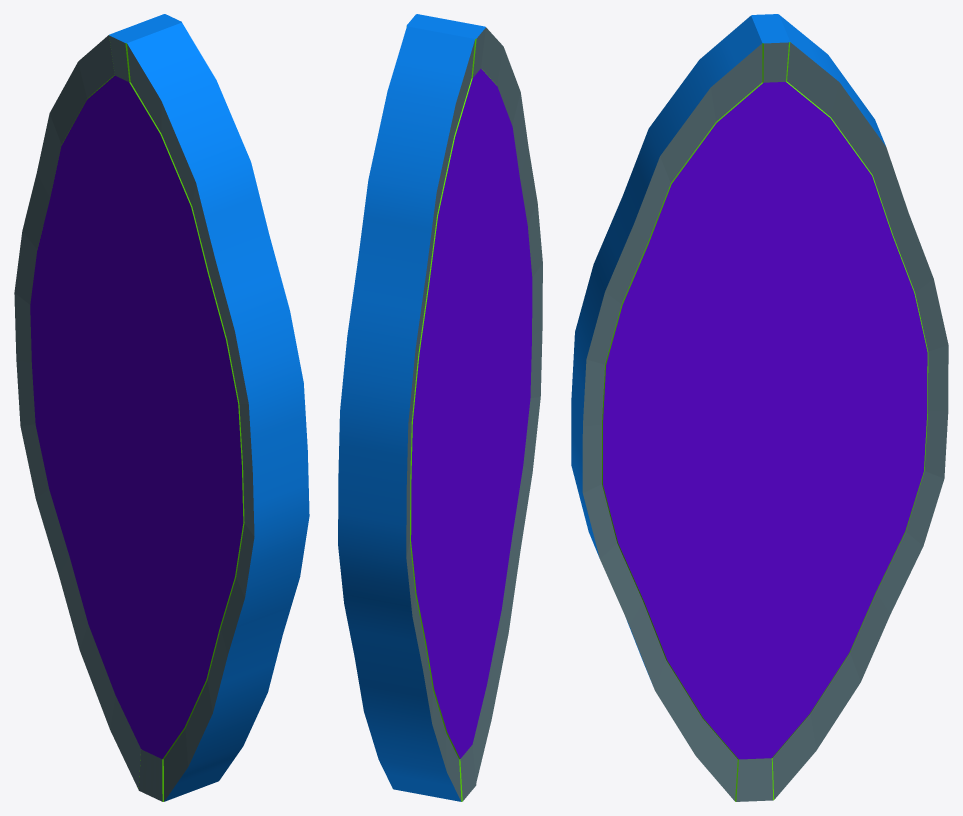
File: PortalPlane.fbx
The picture shows the model from 3 angles, left to right: view 1: azimuth 30°, elevation 25°; view 2: azimuth 150°, elevation 25°; view 3: azimuth 270°, elevation 25°; orthographic projection. The views are drawn at different scales.
Visible parts, largest first — view 1: pPlane1; view 2: pPlane1; view 3: pPlane1.
Boxes of the visible parts, x1=… form: pPlane1: x1=14, y1=14, x2=309, y2=801; pPlane1: x1=338, y1=14, x2=542, y2=801; pPlane1: x1=571, y1=14, x2=948, y2=801.
Bounding box in the file's own units: 0.8756 × 5.45 × 2.48.
